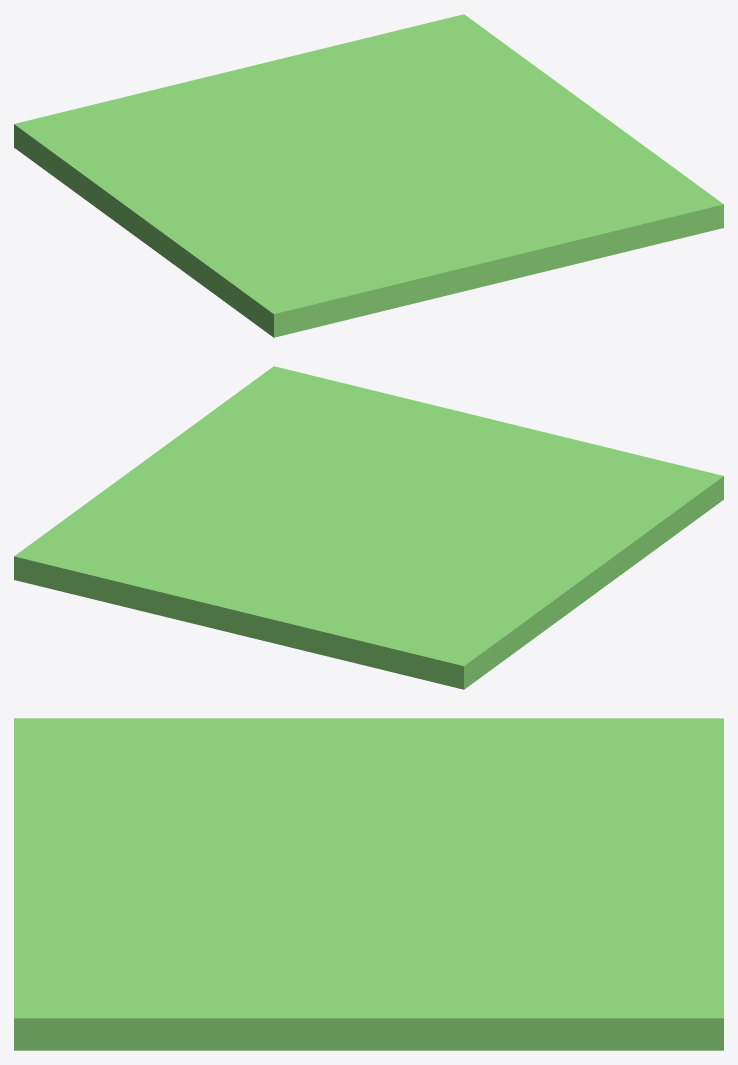
Rendered from Nothing.fbx.
3 views of the same model, one above another, from view 1: azimuth 30°, elevation 25°; view 2: azimuth 150°, elevation 25°; view 3: azimuth 270°, elevation 25° (orthographic). The views are drawn at different scales.
Parts seen in each view (by area): view 1: 立方体; view 2: 立方体; view 3: 立方体.
Part boxes in pixels (bbox=[...]): 立方体: bbox=[14, 14, 723, 337]; 立方体: bbox=[14, 366, 723, 689]; 立方体: bbox=[14, 718, 723, 1050].
Bounding box in the file's own units: 200 × 10 × 200.
